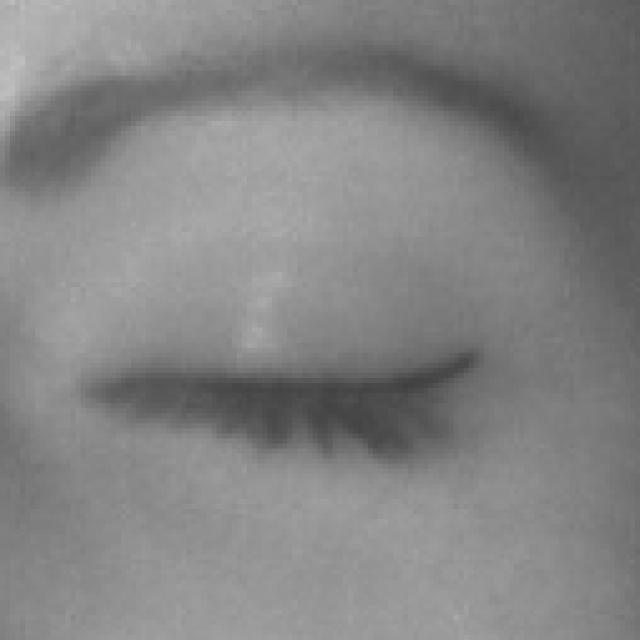close: (2, 6, 640, 590)
